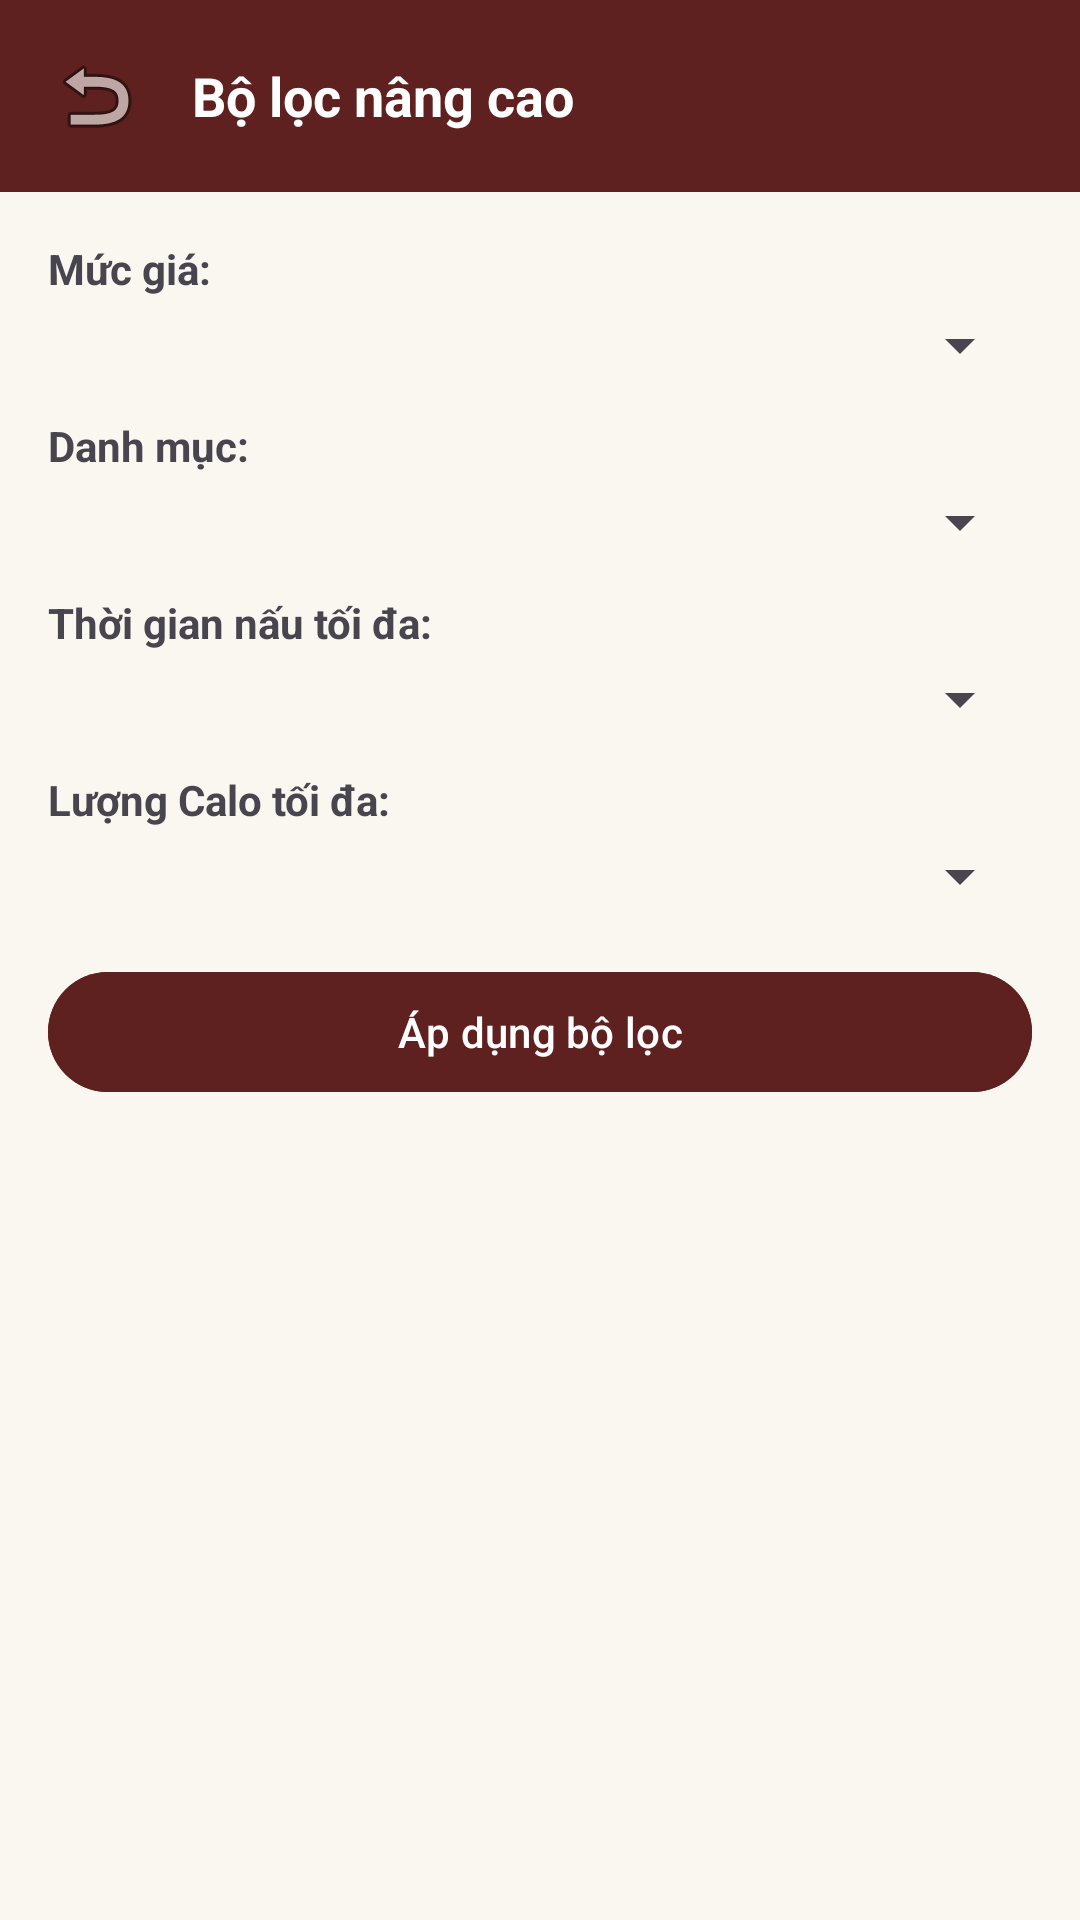

Named icons in this screenshot (1080x1920) and their bounding boxes, (x1, y1, x2, y2):
Quay lại: (63, 66, 131, 128)
